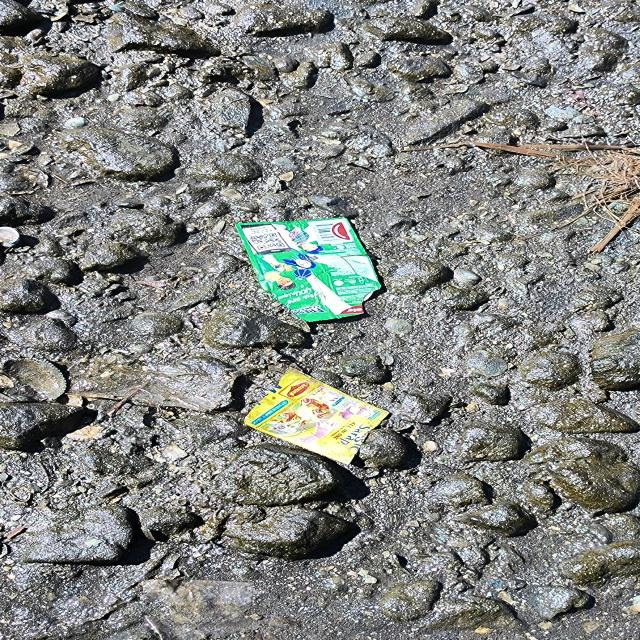plastic_waste: (233, 215, 381, 322), (242, 367, 390, 467)
